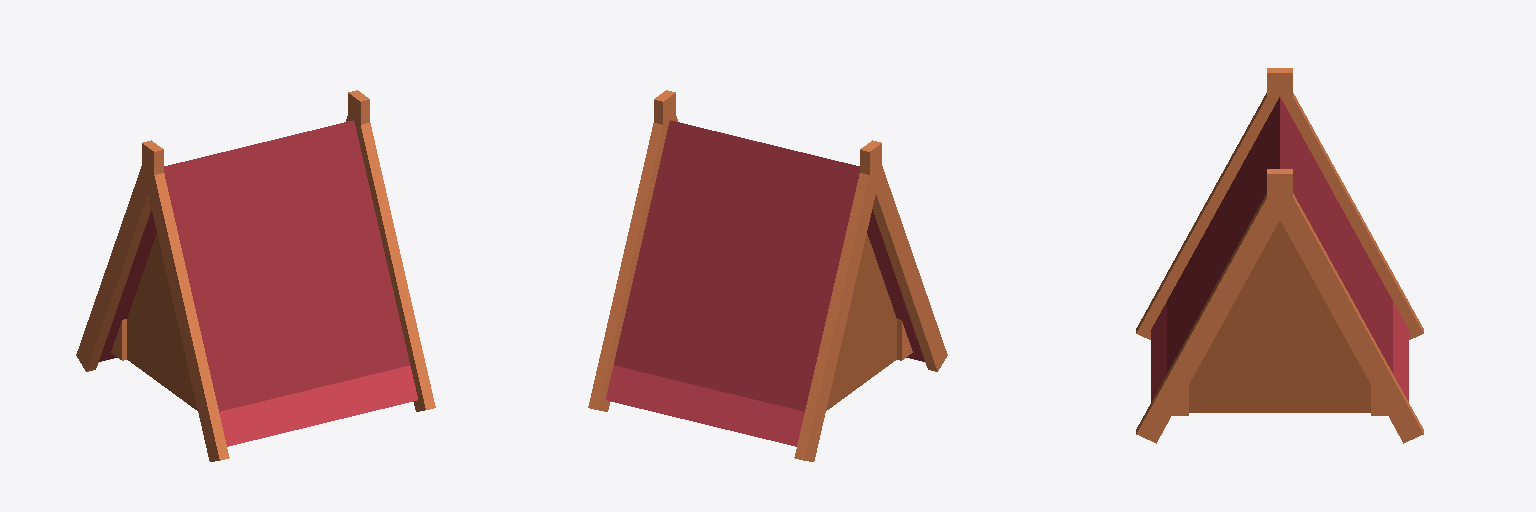
Rendered from roofHighGableDetail.obj.
The picture shows the model from 3 angles: view 1: azimuth 30°, elevation 25°; view 2: azimuth 150°, elevation 25°; view 3: azimuth 270°, elevation 25°; orthographic projection.
Visible parts, largest first — view 1: roofHighGableDetail; view 2: roofHighGableDetail; view 3: roofHighGableDetail.
Boxes of the visible parts, x1,y1,x2,y2 form: roofHighGableDetail: [76, 90, 435, 461]; roofHighGableDetail: [588, 90, 947, 461]; roofHighGableDetail: [1136, 68, 1423, 443].
Size of the model in its own units: 1.1 by 1.31 by 1.27.